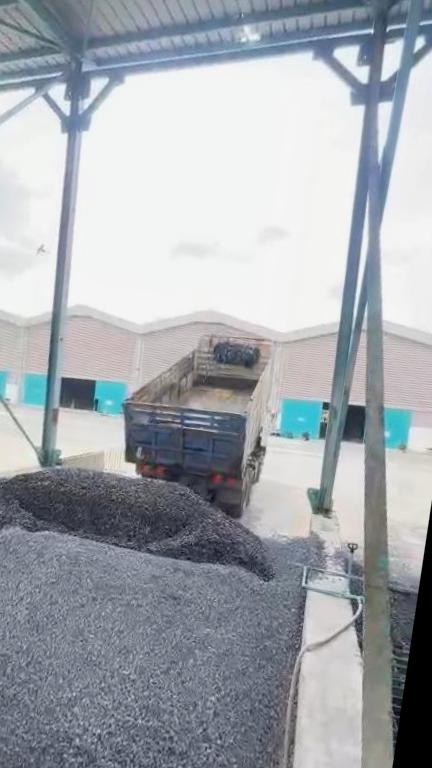gravel: (0, 469, 329, 768), (390, 579, 419, 655)
